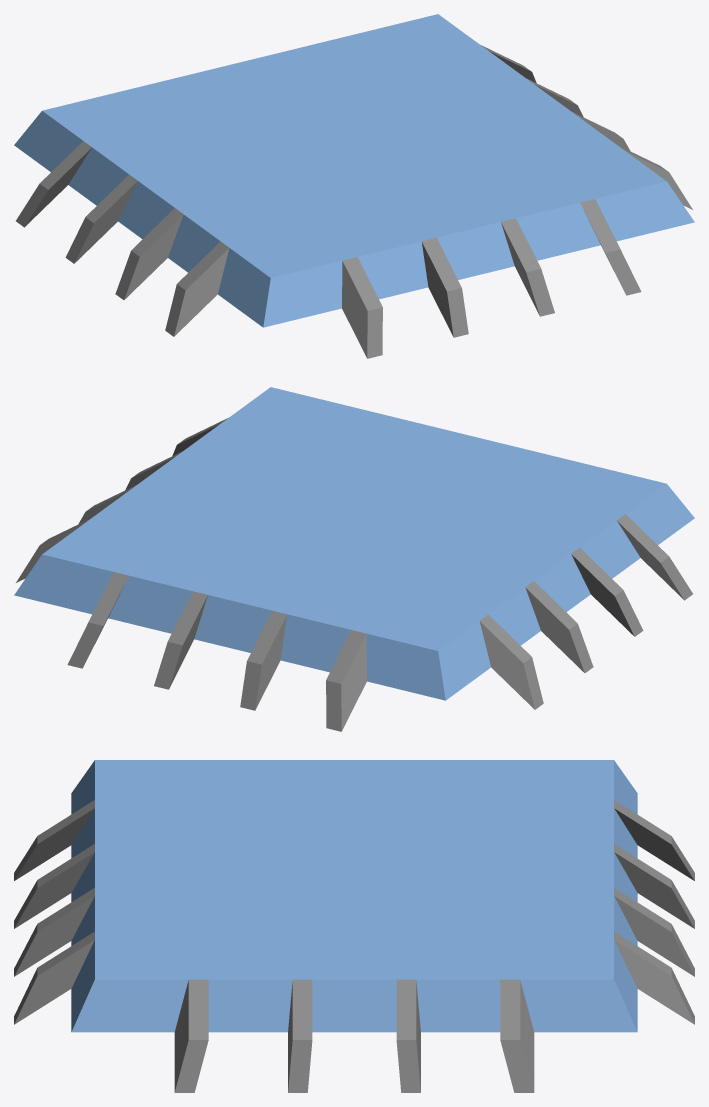
File: ObjectenInteractableChip.fbx
3 views of the same model, one above another, from view 1: azimuth 30°, elevation 25°; view 2: azimuth 150°, elevation 25°; view 3: azimuth 270°, elevation 25° (orthographic). The views are drawn at different scales.
Parts seen in each view (by area): view 1: Chip; view 2: Chip; view 3: Chip.
Part boxes in pixels (x1=…): Chip: x1=14, y1=14, x2=694, y2=358; Chip: x1=14, y1=387, x2=694, y2=731; Chip: x1=14, y1=760, x2=694, y2=1092.
Size of the model in its own units: 96.84 by 12.41 by 96.84.
